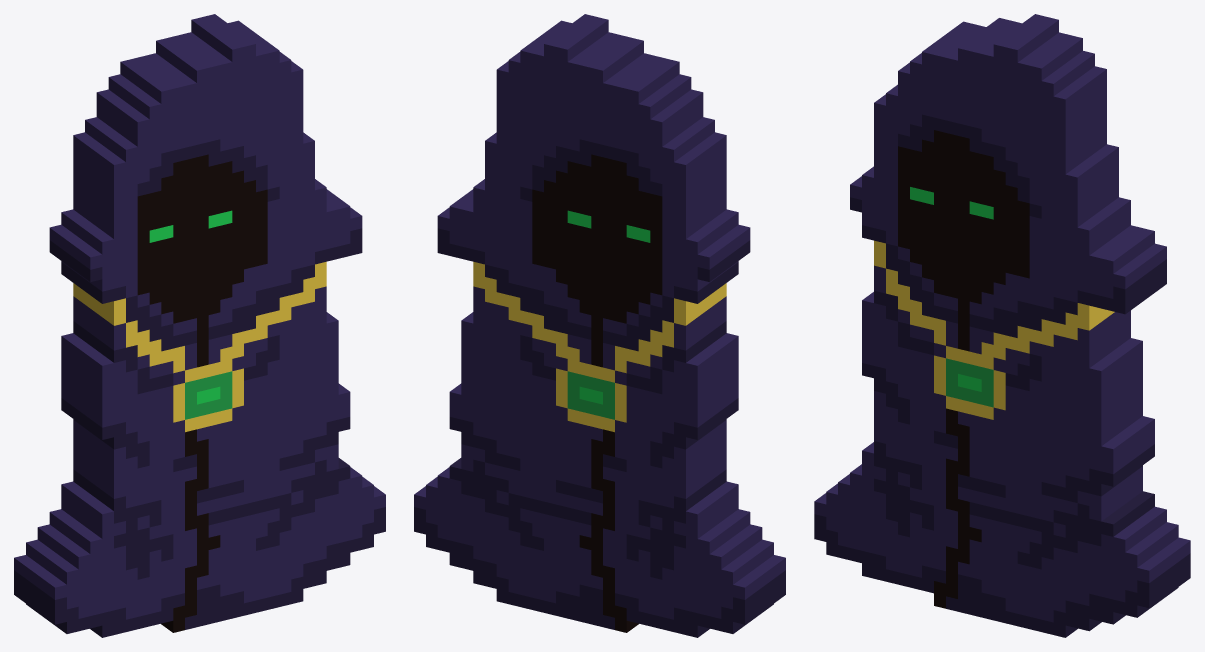
Rendered from first_boss.obj.
3 renders of one model, left to right at view 1: azimuth 30°, elevation 25°; view 2: azimuth 150°, elevation 25°; view 3: azimuth 330°, elevation 25°, orthographic.
Size of the model in its own units: 56 by 92 by 12.
